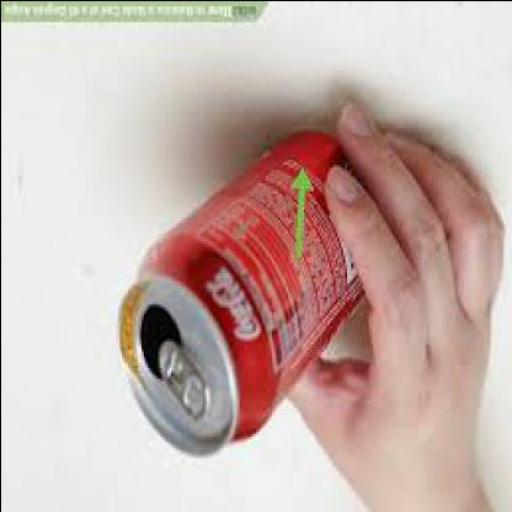metal: (119, 132, 366, 459)
